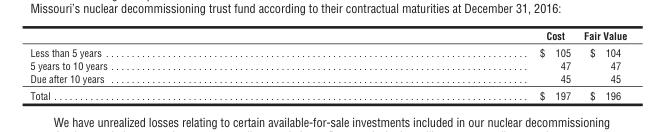table: (29, 29, 626, 101)
table column: (29, 29, 323, 101), (323, 29, 576, 101), (576, 29, 626, 101)
table column header: (29, 29, 626, 43)
table row: (29, 43, 626, 58), (29, 71, 626, 86), (29, 86, 626, 101), (29, 29, 626, 43), (29, 58, 626, 71)
